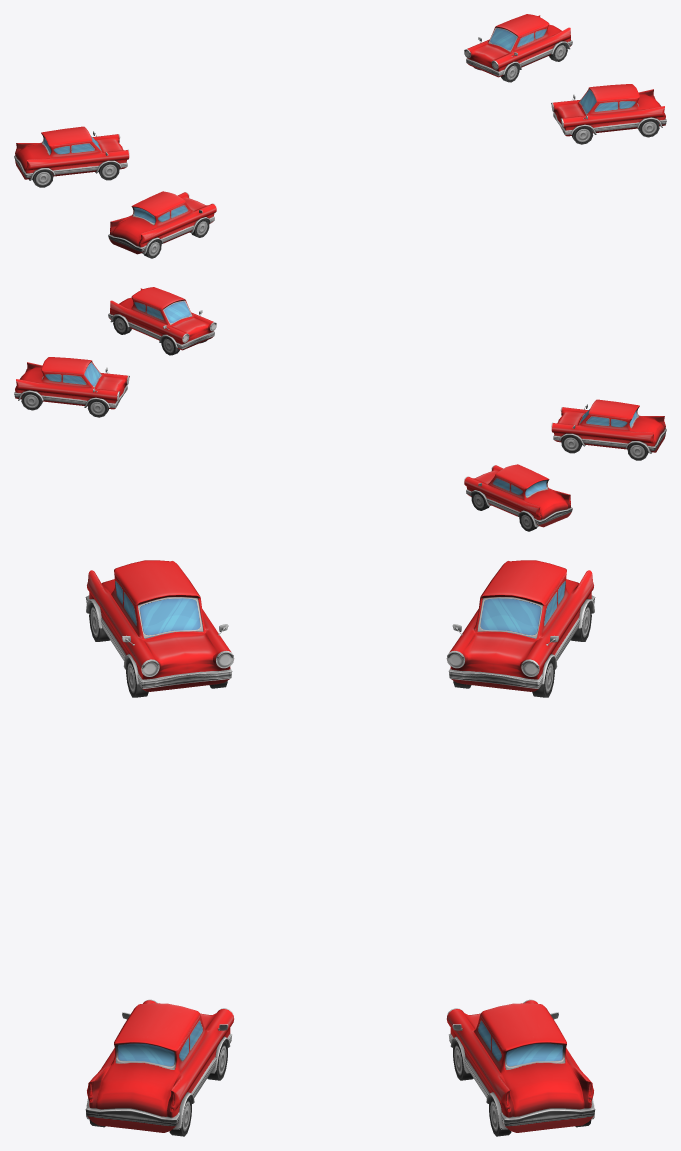
Rendered from obj_cars.gltf.
3 views of the same model, one above another, from view 1: azimuth 30°, elevation 25°; view 2: azimuth 150°, elevation 25°; view 3: azimuth 270°, elevation 25° (orthographic). The views are drawn at different scales.
Parts seen in each view (by area): view 1: obj_cars; view 2: obj_cars; view 3: obj_cars.
Boxes of the visible parts, <box> form: obj_cars: <box>14,14,666,258</box>; obj_cars: <box>14,287,666,531</box>; obj_cars: <box>85,560,595,1136</box>.
Size of what is drawn, in the model's own units: 14.19 by 1.03 by 5.72.
Materials: 1 (1 with a texture image).
